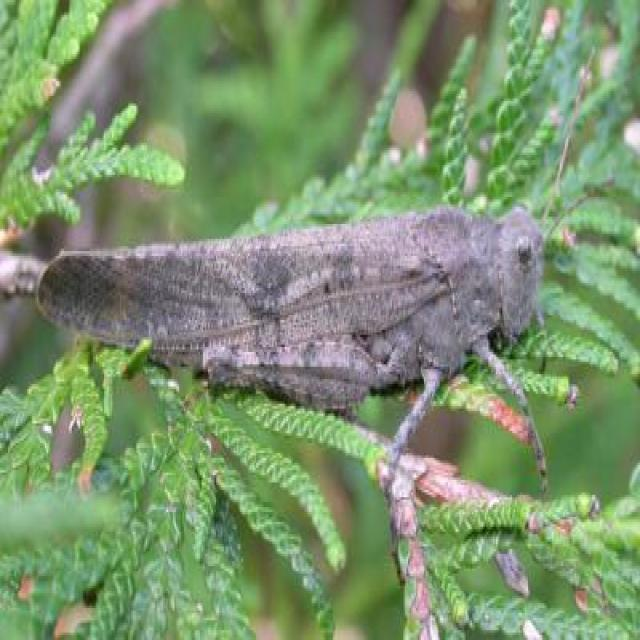antennae: (545, 54, 596, 223), (546, 178, 614, 235)
body: (38, 218, 544, 389)
insect: (38, 54, 614, 576)
legs: (203, 346, 381, 416), (388, 372, 443, 578), (473, 342, 549, 486)
mouthpart: (497, 302, 534, 344)
wings: (40, 246, 448, 354)
